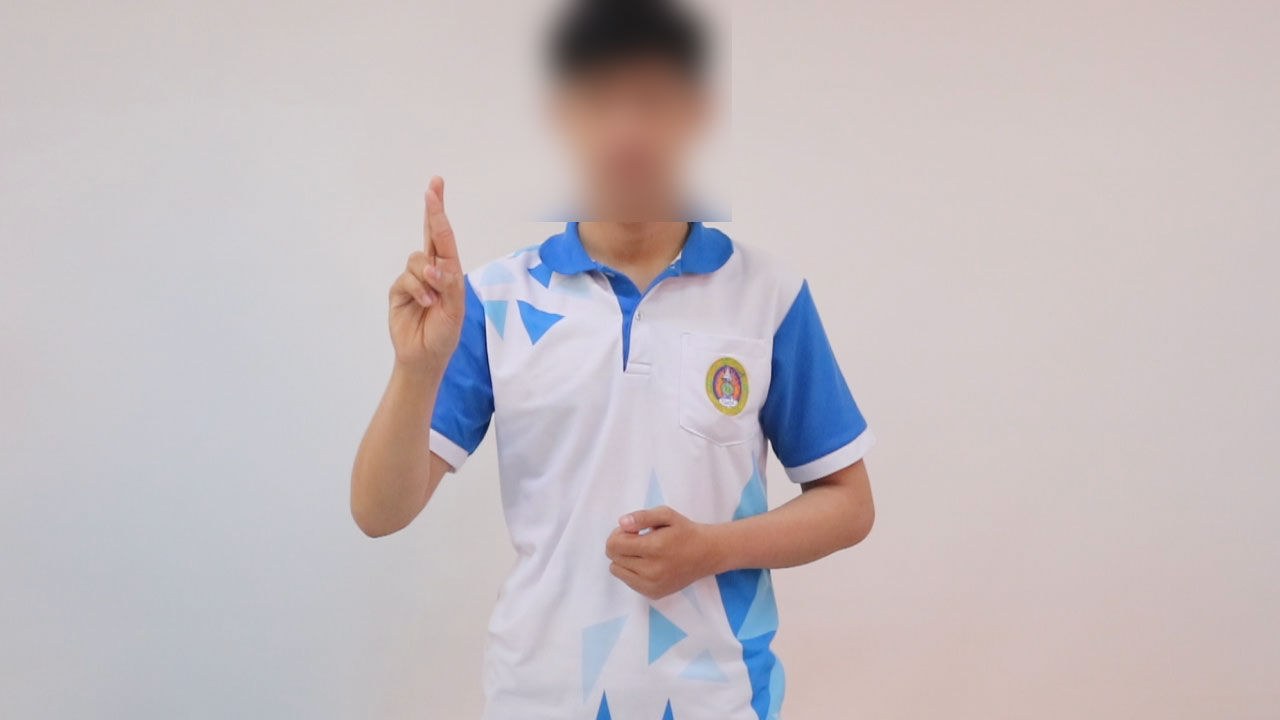rao: (371, 167, 481, 390)
